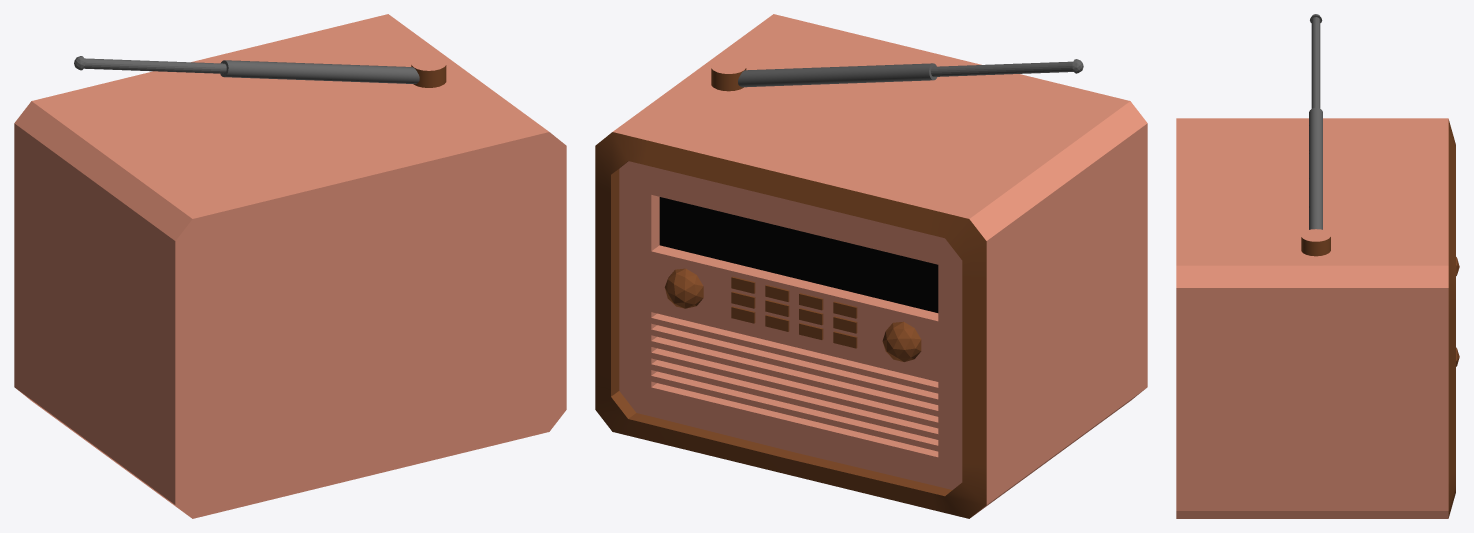
The model's file is Radio.FBX.
The picture shows the model from 3 angles, left to right: view 1: azimuth 30°, elevation 25°; view 2: azimuth 150°, elevation 25°; view 3: azimuth 270°, elevation 25°; orthographic projection. The views are drawn at different scales.
Visible parts, largest first — view 1: Box001; view 2: Box001; view 3: Box001.
Part boxes in pixels (left/top/right/bottom): Box001: left=14, top=14, right=566, bottom=518; Box001: left=595, top=14, right=1147, bottom=518; Box001: left=1176, top=14, right=1459, bottom=518.
Bounding box in the file's own units: 71.81 × 68.6 × 51.03.
